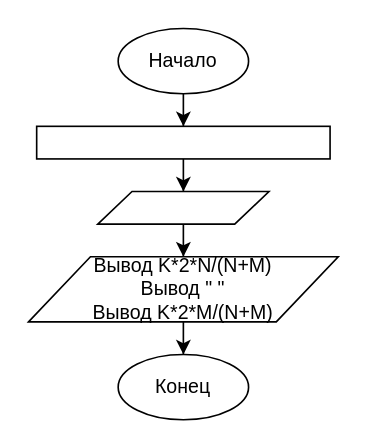
The diagram is 367 pixels wide and 448 high, and some of its shapes have lost their labels. Each missing label, with the box of its shape:
Ввод N, M, K: (96, 190, 269, 224)
Вещественные числа N, M, K: (35, 125, 330, 159)
